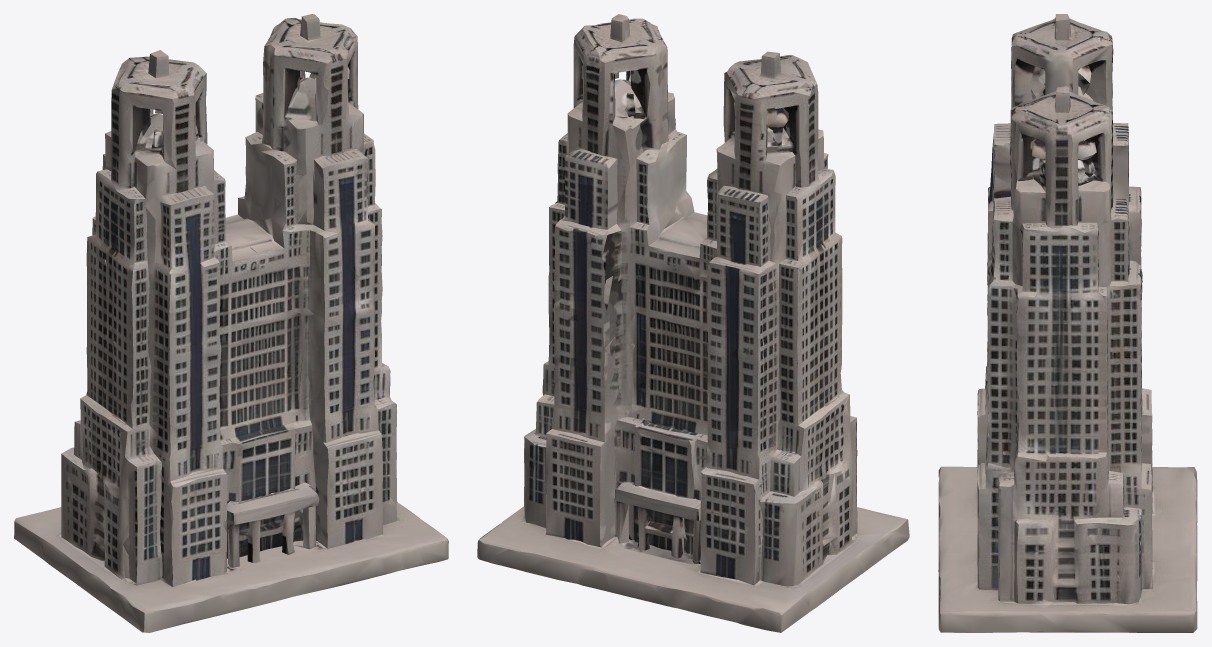
The model's file is tokyo-metropolitan-government.glb.
The picture shows the model from 3 angles, left to right: view 1: azimuth 30°, elevation 25°; view 2: azimuth 150°, elevation 25°; view 3: azimuth 270°, elevation 25°; orthographic projection.
Parts seen in each view (by area): view 1: logan-textured.obj; view 2: logan-textured.obj; view 3: logan-textured.obj.
Boxes of the visible parts, <box> form: logan-textured.obj: <box>14,14,448,632</box>; logan-textured.obj: <box>477,14,909,632</box>; logan-textured.obj: <box>938,14,1197,632</box>.
Bounding box in the file's own units: 0.6233 × 1 × 0.4624.
1 material, 1 textured.
